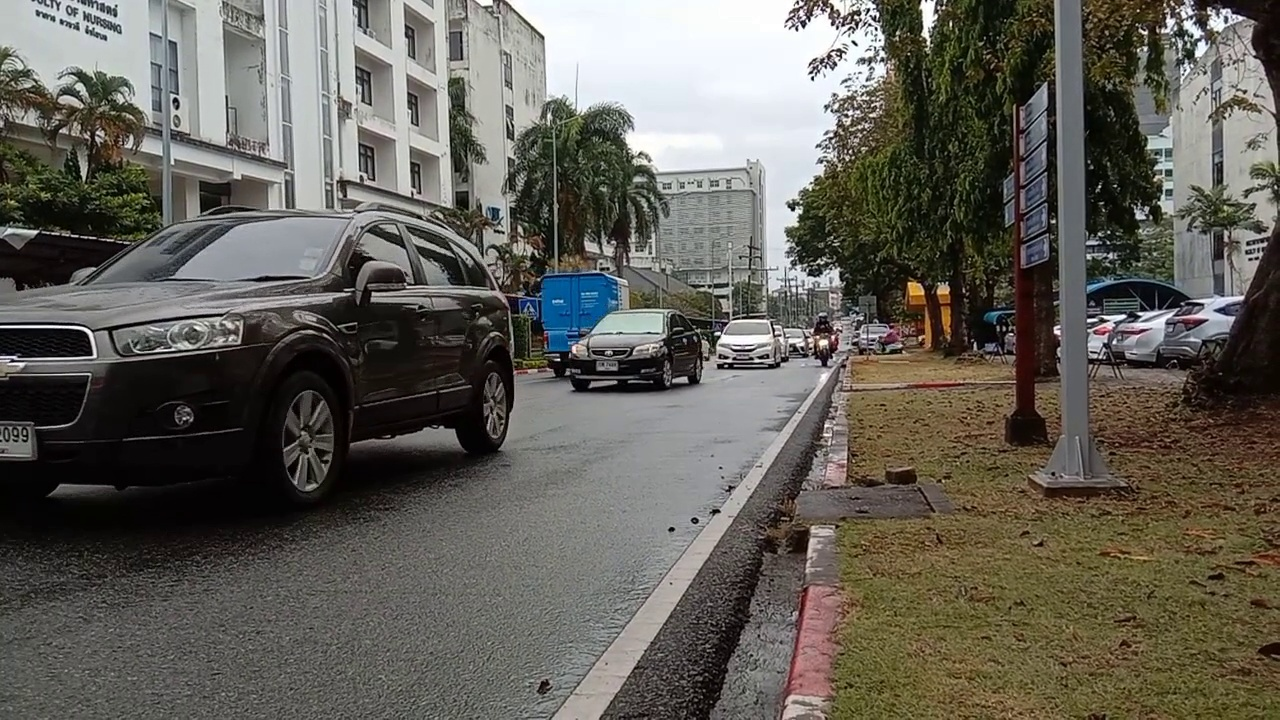License Plate: (592, 358, 618, 372)
